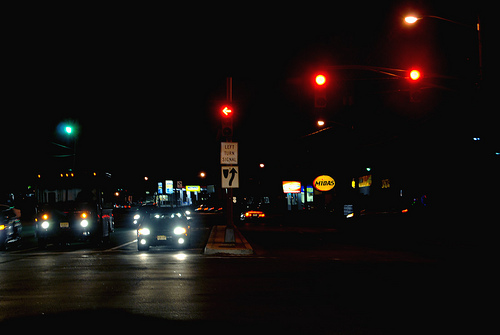car: (134, 204, 193, 258)
